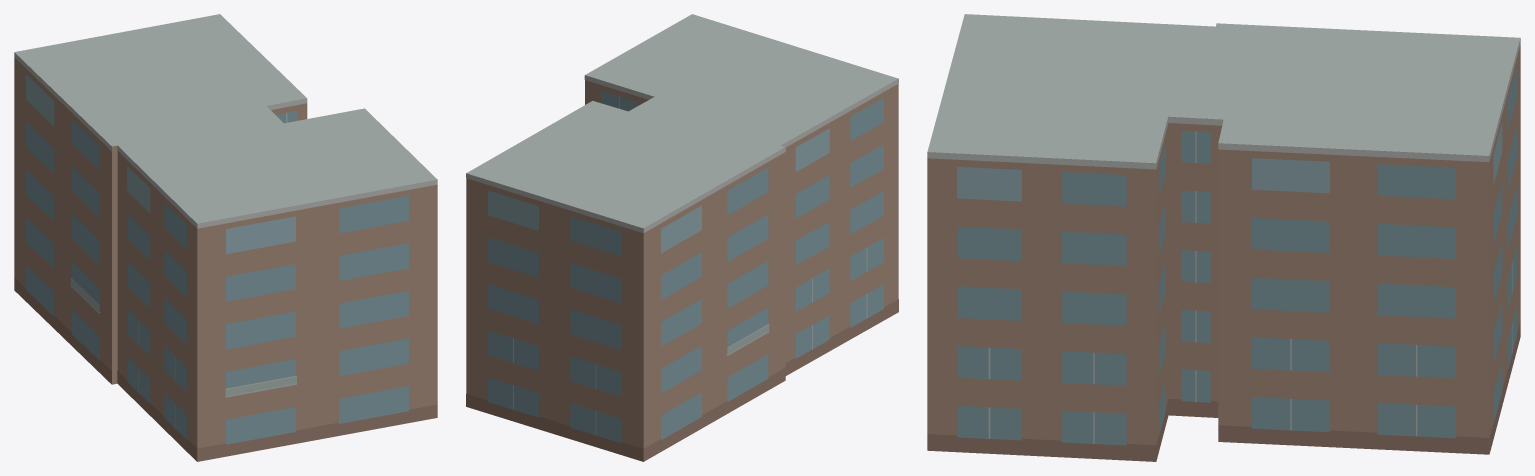
The model's file is survey-upis-32679566.glb.
The picture shows the model from 3 angles, left to right: view 1: azimuth 30°, elevation 25°; view 2: azimuth 150°, elevation 25°; view 3: azimuth 270°, elevation 25°; orthographic projection. The views are drawn at different scales.
Parts seen in each view (by area): view 1: survey-upis-32679566.tmp; view 2: survey-upis-32679566.tmp; view 3: survey-upis-32679566.tmp.
Part boxes in pixels (x1,y1,x2,y2): survey-upis-32679566.tmp: (14, 14, 437, 461); survey-upis-32679566.tmp: (466, 14, 898, 461); survey-upis-32679566.tmp: (927, 14, 1520, 461).
Bounding box in the file's own units: 12.55 × 11.7 × 21.08.
